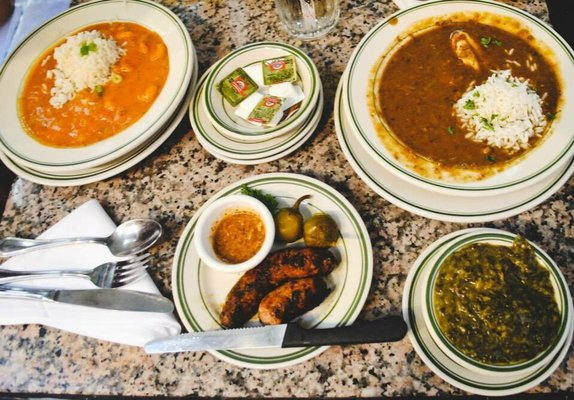salad: (1, 219, 163, 263), (144, 324, 288, 353)
sushi: (334, 0, 574, 213), (0, 0, 196, 182), (400, 227, 573, 390), (193, 194, 276, 275)
